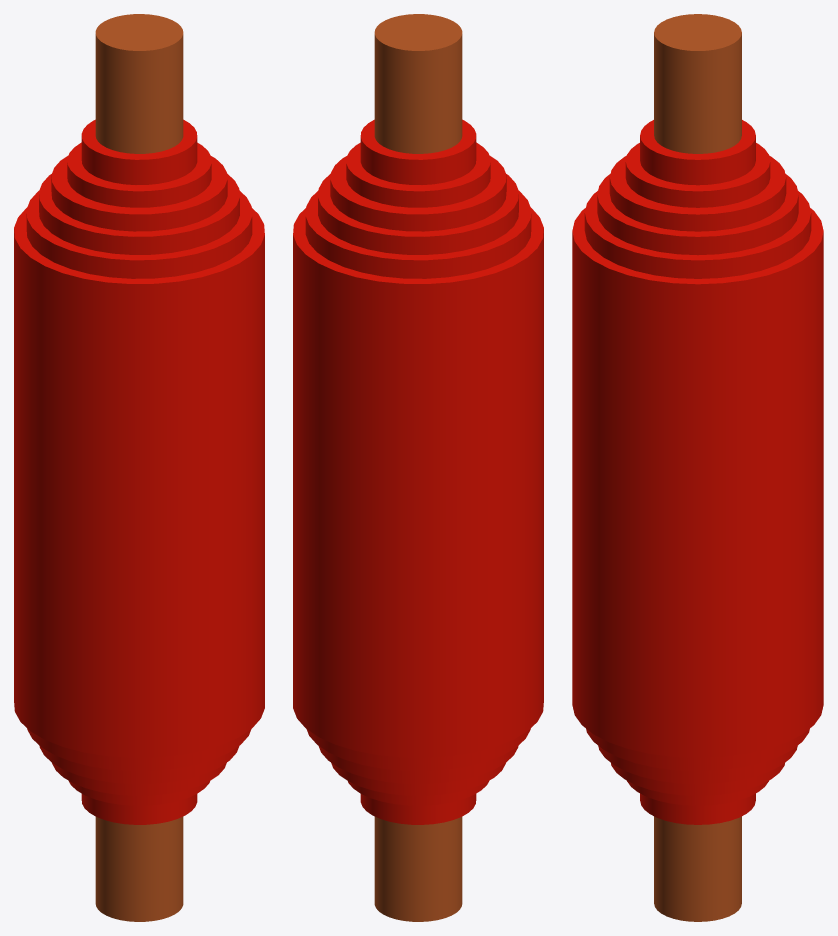
The model's file is alexc_bolt_of_fabric.fbx.
3 renders of one model, left to right at view 1: azimuth 30°, elevation 25°; view 2: azimuth 150°, elevation 25°; view 3: azimuth 270°, elevation 25°, orthographic.
Parts seen in each view (by area): view 1: fabricbolt; view 2: fabricbolt; view 3: fabricbolt.
Boxes of the visible parts, bbox=[...] form: fabricbolt: bbox=[14, 14, 264, 921]; fabricbolt: bbox=[293, 14, 543, 921]; fabricbolt: bbox=[572, 14, 823, 921].
Size of the model in its own units: 175 by 175 by 670.
